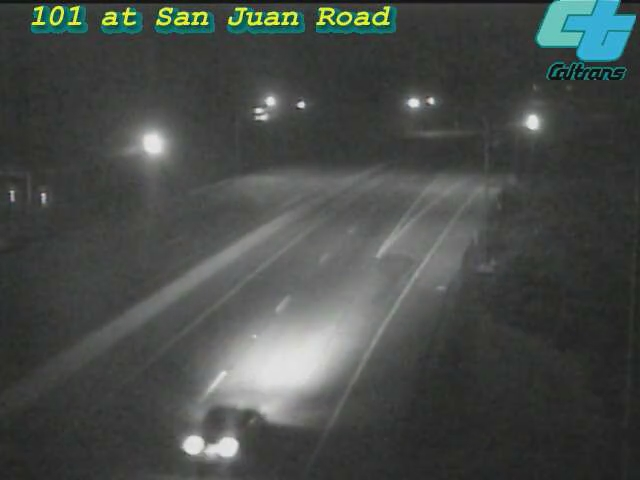vehicle: (162, 385, 272, 480), (507, 97, 557, 147)
